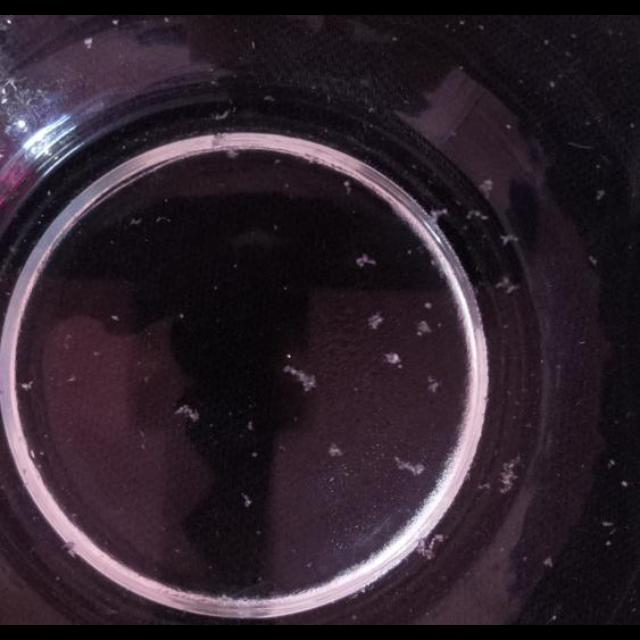Fibre: (282, 364, 314, 394), (393, 455, 425, 477), (176, 404, 200, 424), (494, 277, 518, 295), (467, 208, 488, 222), (366, 312, 384, 328), (426, 377, 442, 395), (355, 254, 375, 268), (478, 179, 494, 195)
microbeads: (383, 352, 402, 366), (415, 319, 431, 335), (327, 444, 343, 458), (240, 492, 252, 508), (64, 374, 76, 384), (343, 180, 353, 192), (596, 189, 606, 201), (543, 556, 553, 568), (64, 333, 74, 345), (156, 215, 170, 223), (131, 217, 143, 226), (606, 458, 616, 468), (588, 255, 598, 265), (264, 94, 276, 102), (246, 421, 254, 432), (110, 314, 120, 322), (423, 302, 433, 310), (601, 520, 613, 526), (178, 313, 186, 321), (621, 480, 629, 488), (604, 540, 612, 548), (304, 561, 312, 569), (252, 451, 258, 459), (550, 81, 556, 89)
